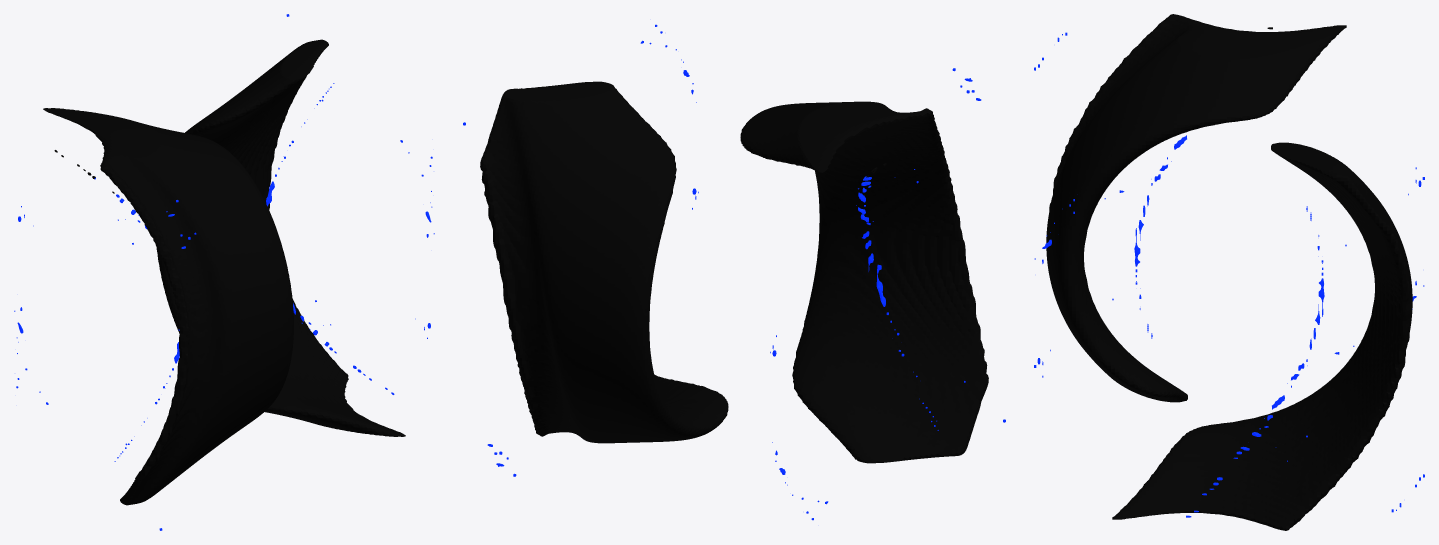
Rendered from obujekuto 1.fbx.
3 renders of one model, left to right at view 1: azimuth 30°, elevation 25°; view 2: azimuth 150°, elevation 25°; view 3: azimuth 270°, elevation 25°, orthographic. The views are drawn at different scales.
Visible parts, largest first — view 1: 平面; view 2: 平面; view 3: 平面.
Boxes of the visible parts, x1=… form: 平面: x1=14, y1=14, x2=434, y2=530; 平面: x1=463, y1=24, x2=1005, y2=520; 平面: x1=1034, y1=14, x2=1424, y2=530.
Size of the model in its own units: 203 by 203 by 201.
